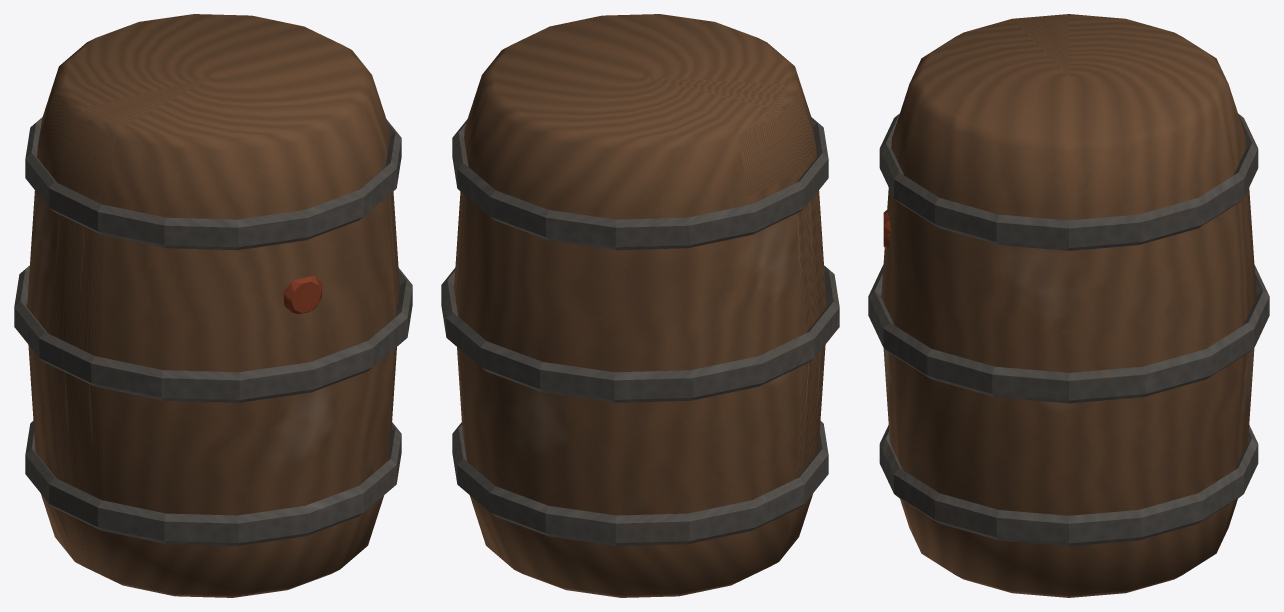
The model's file is WK_PROP_BARREL_A_01.glb.
3 views of the same model, side by side, from view 1: azimuth 30°, elevation 25°; view 2: azimuth 150°, elevation 25°; view 3: azimuth 270°, elevation 25° (orthographic).
Parts seen in each view (by area): view 1: WK_PROP_BARREL_A_01; view 2: WK_PROP_BARREL_A_01; view 3: WK_PROP_BARREL_A_01.
Part boxes in pixels (x1,y1,x2,y2): WK_PROP_BARREL_A_01: (14,14,412,597); WK_PROP_BARREL_A_01: (441,14,839,597); WK_PROP_BARREL_A_01: (868,14,1269,597).
Bounding box in the file's own units: 0.714 × 0.9 × 0.714.
3 materials, 3 textured.
